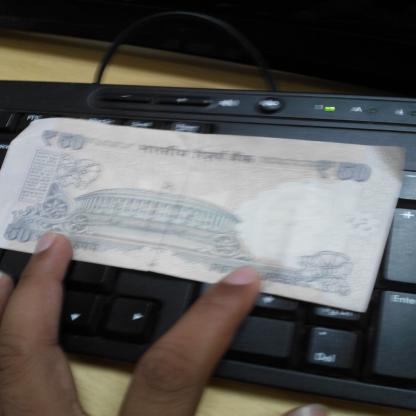Old50Back: (0, 117, 408, 314)
